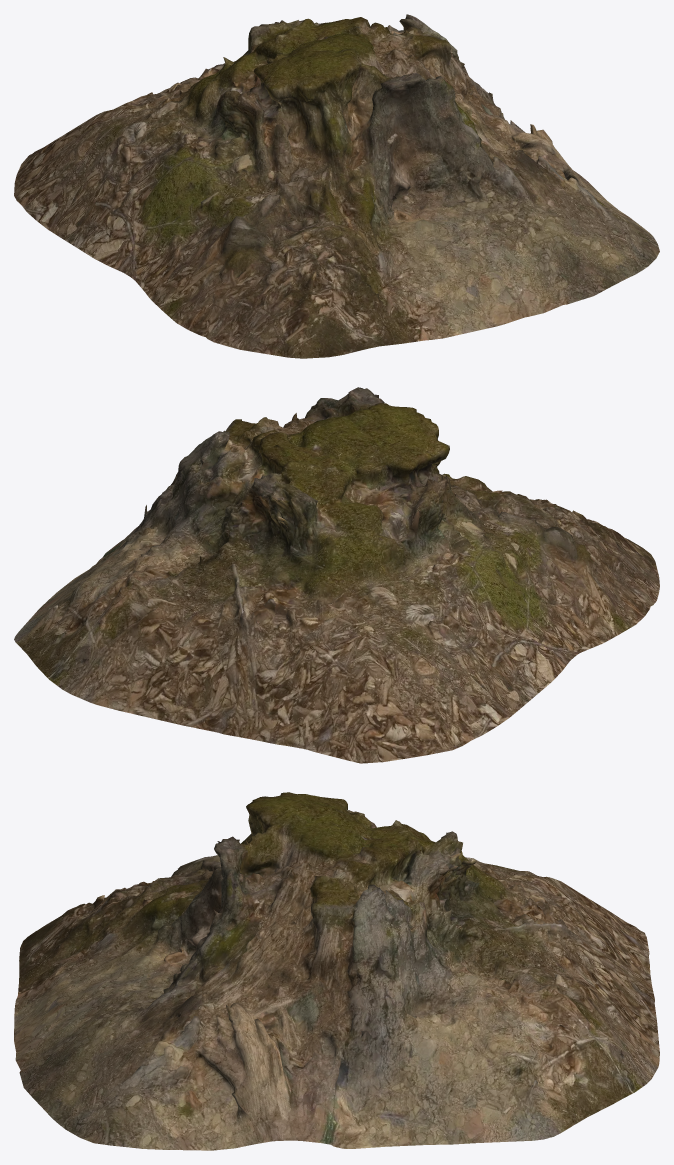
The model's file is tree_stump_01.glb.
The picture shows the model from 3 angles, top to bottom: view 1: azimuth 30°, elevation 25°; view 2: azimuth 150°, elevation 25°; view 3: azimuth 270°, elevation 25°; orthographic projection. The views are drawn at different scales.
Visible parts, largest first — view 1: tree_stump_01; view 2: tree_stump_01; view 3: tree_stump_01.
Boxes of the visible parts, bbox=[...] form: tree_stump_01: bbox=[14, 14, 659, 358]; tree_stump_01: bbox=[14, 387, 659, 763]; tree_stump_01: bbox=[14, 792, 659, 1150].
Bounding box in the file's own units: 1.43 × 0.5725 × 1.59.
1 material, 1 textured.
